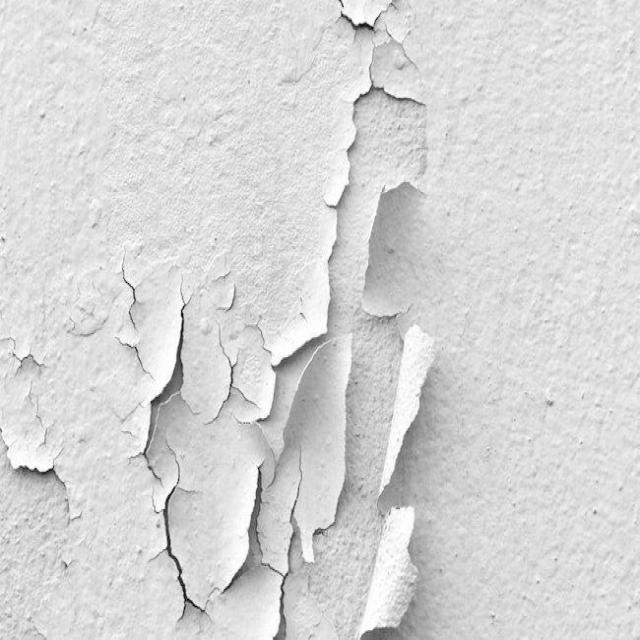peeling paint: (1, 0, 461, 640)
